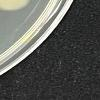white: (0, 0, 34, 14)
